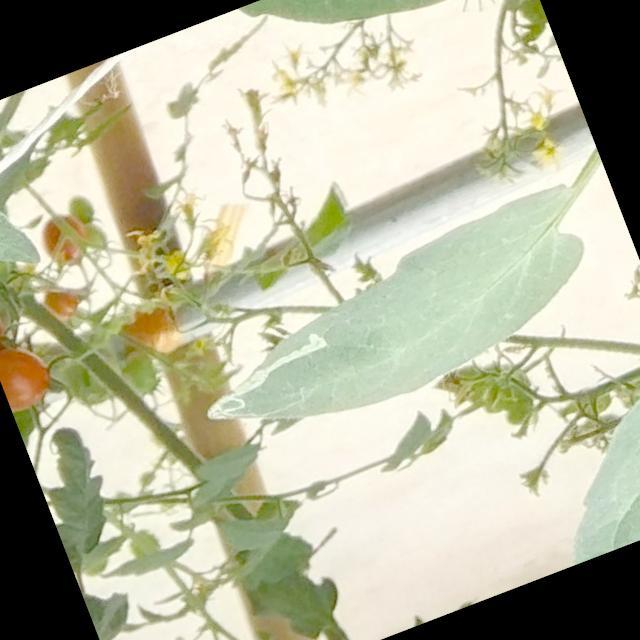Tomato target spot leaf: (168, 172, 625, 471)
